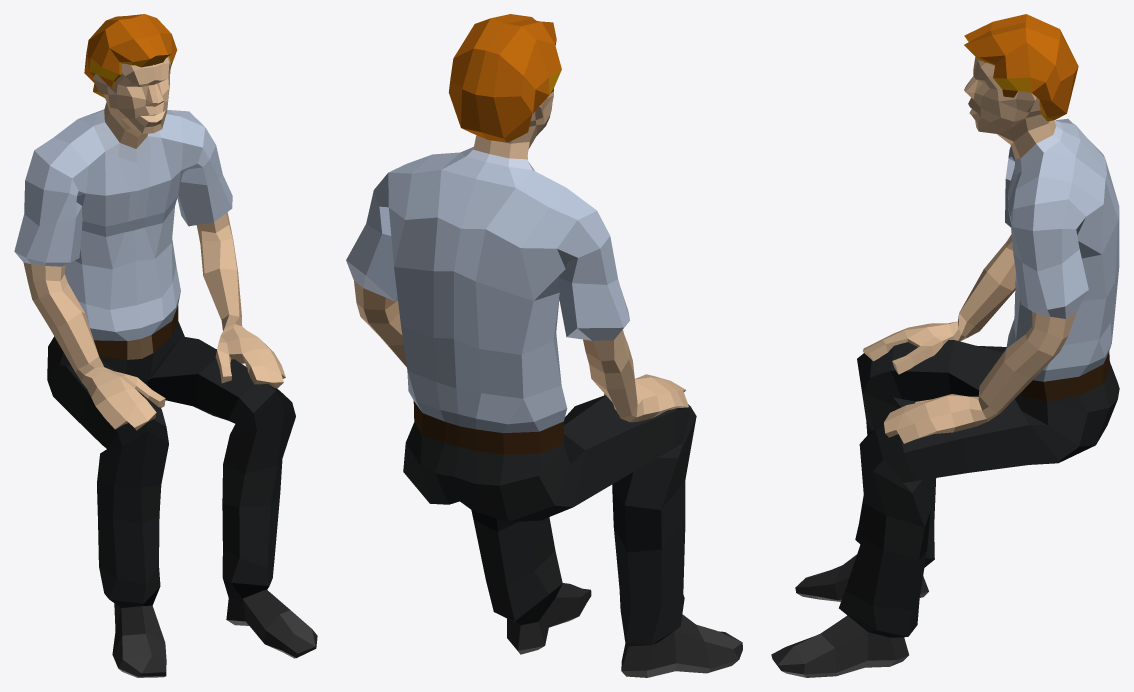
3 renders of one model, left to right at view 1: azimuth 30°, elevation 25°; view 2: azimuth 150°, elevation 25°; view 3: azimuth 270°, elevation 25°, orthographic. The views are drawn at different scales.
Parts seen in each view (by area): view 1: lpMale_casual_B_sitting_peopleColors_0; view 2: lpMale_casual_B_sitting_peopleColors_0; view 3: lpMale_casual_B_sitting_peopleColors_0.
Part boxes in pixels (box(x1,y1,x2,y2)): lpMale_casual_B_sitting_peopleColors_0: box(14, 14, 317, 677); lpMale_casual_B_sitting_peopleColors_0: box(346, 14, 742, 677); lpMale_casual_B_sitting_peopleColors_0: box(771, 14, 1119, 677).
Size of the model in its own units: 54.82 by 136 by 69.54.
